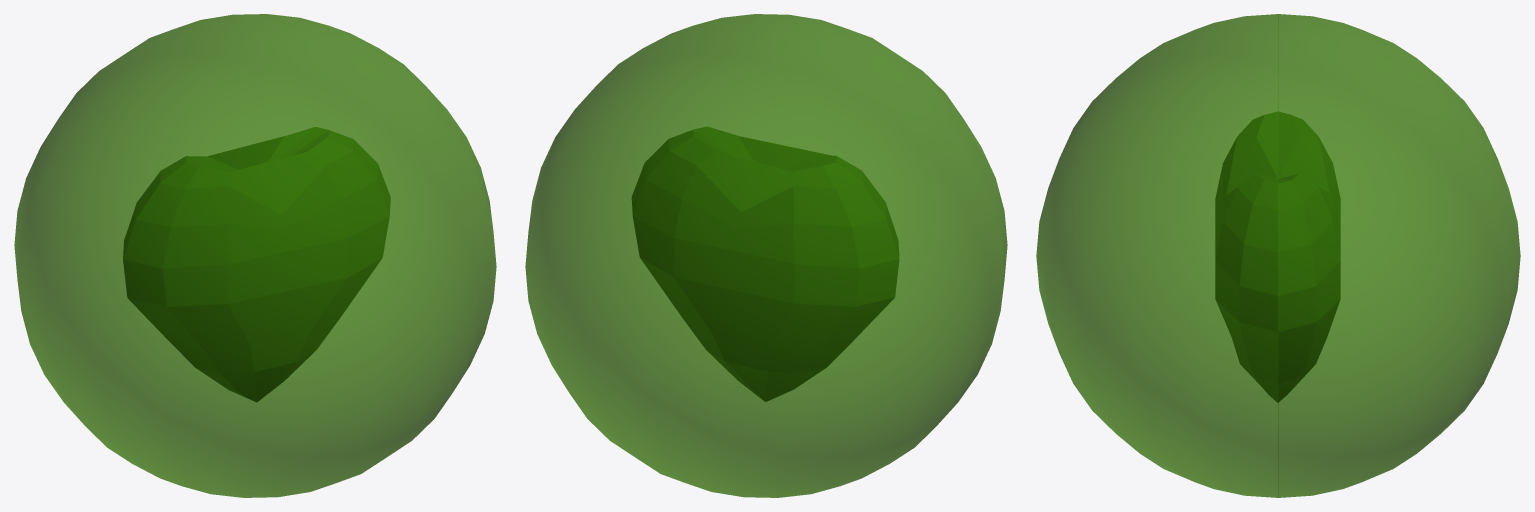
The model's file is LifeOrbExpo5.fbx.
The picture shows the model from 3 angles, left to right: view 1: azimuth 30°, elevation 25°; view 2: azimuth 150°, elevation 25°; view 3: azimuth 270°, elevation 25°; orthographic projection.
Visible parts, largest first — view 1: pSphere1, pSphere2; view 2: pSphere1, pSphere2; view 3: pSphere1, pSphere2.
Boxes of the visible parts, x1,y1,x2,y2 form: pSphere1: (14,14,496,497); pSphere2: (123,127,390,402); pSphere1: (525,14,1007,497); pSphere2: (631,126,899,401); pSphere1: (1036,14,1520,497); pSphere2: (1215,111,1340,402).
Size of the model in its own units: 2.86 by 2.86 by 2.86.
